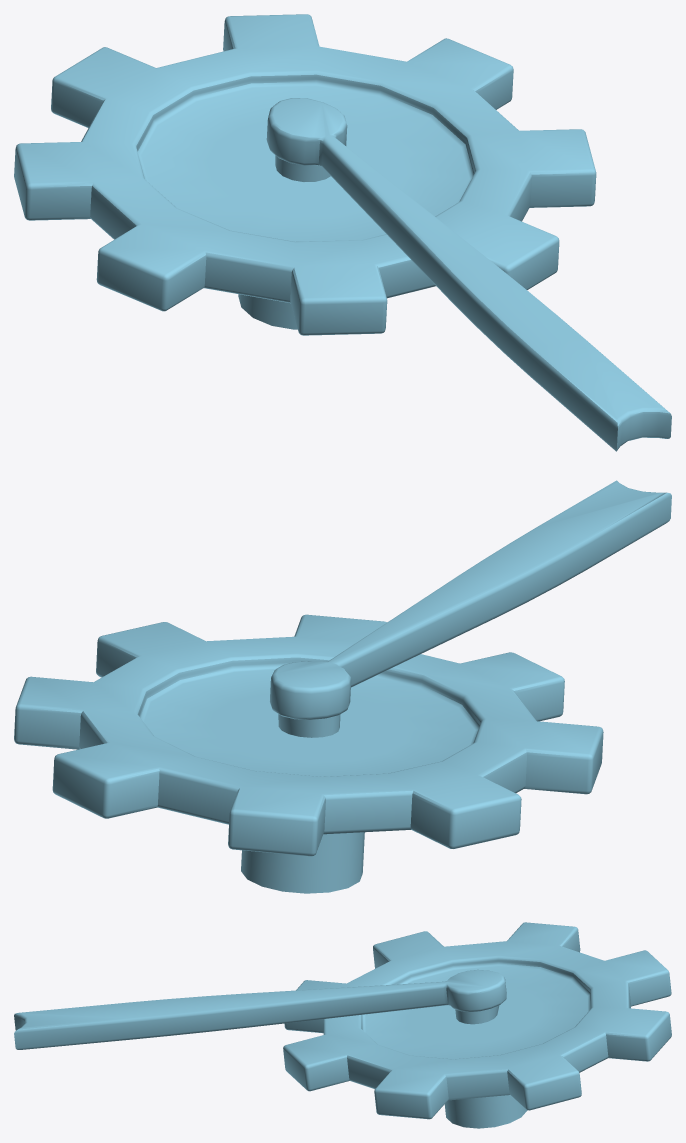
Rendered from CZahnradZeiger.fbx.
The picture shows the model from 3 angles, top to bottom: view 1: azimuth 30°, elevation 25°; view 2: azimuth 150°, elevation 25°; view 3: azimuth 270°, elevation 25°; orthographic projection. The views are drawn at different scales.
Visible parts, largest first — view 1: CZahnradZeiger; view 2: CZahnradZeiger; view 3: CZahnradZeiger.
Part boxes in pixels (x1,y1,x2,y2): CZahnradZeiger: (14, 14, 671, 451); CZahnradZeiger: (14, 480, 671, 893); CZahnradZeiger: (14, 922, 671, 1128).
Bounding box in the file's own units: 195 × 75.36 × 330.
